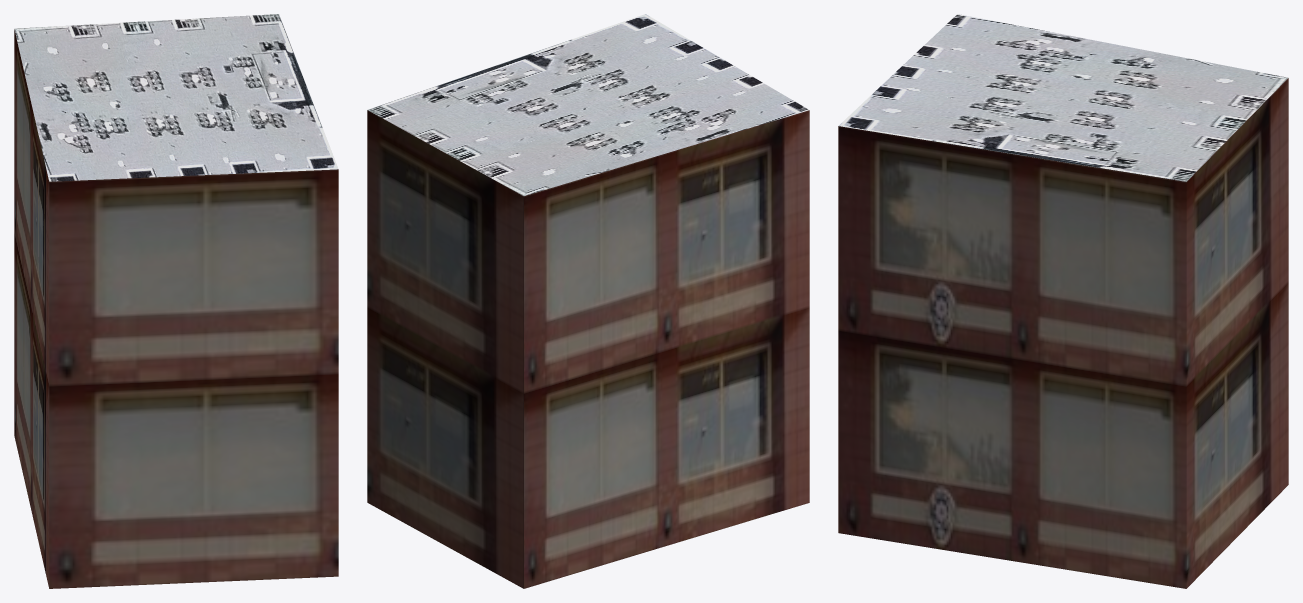
The model's file is ResTex__2568.fbx.
3 renders of one model, left to right at view 1: azimuth 30°, elevation 25°; view 2: azimuth 150°, elevation 25°; view 3: azimuth 270°, elevation 25°, orthographic. The views are drawn at different scales.
Visible parts, largest first — view 1: CityEngineMaterial_13_m, CityEngineMaterial_8_m; view 2: CityEngineMaterial_13_m, CityEngineMaterial_8_m; view 3: CityEngineMaterial_13_m, CityEngineMaterial_8_m.
Boxes of the visible parts, x1,y1,x2,y2 form: CityEngineMaterial_13_m: [14, 29, 338, 588]; CityEngineMaterial_8_m: [14, 14, 338, 181]; CityEngineMaterial_13_m: [367, 110, 809, 588]; CityEngineMaterial_8_m: [368, 14, 809, 195]; CityEngineMaterial_13_m: [838, 78, 1288, 588]; CityEngineMaterial_8_m: [839, 14, 1288, 181].
Size of the model in its own units: 5.31 by 6 by 6.02.
Materials: 2 (2 with a texture image).
